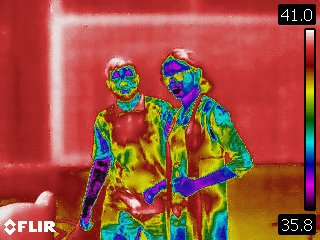human: (145, 48, 256, 240), (79, 57, 180, 240)
